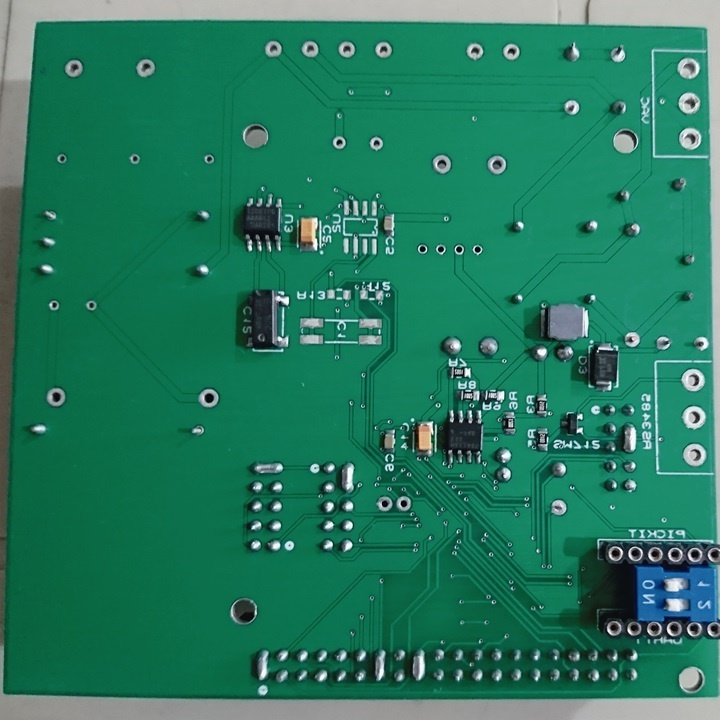F: (681, 438, 709, 469), (681, 402, 710, 431), (676, 123, 704, 153), (676, 90, 705, 118), (680, 366, 707, 395), (674, 55, 703, 81), (195, 387, 221, 411), (430, 152, 456, 176), (44, 386, 68, 409), (133, 57, 156, 80), (484, 152, 507, 175), (499, 40, 521, 64), (653, 333, 675, 355), (61, 57, 84, 78), (299, 37, 320, 60), (607, 43, 627, 66), (621, 329, 641, 352), (690, 334, 711, 355), (463, 40, 484, 61), (560, 97, 582, 117), (264, 38, 284, 60), (373, 38, 393, 60), (550, 498, 569, 519), (337, 39, 356, 59), (330, 132, 349, 151), (395, 494, 413, 514), (374, 495, 395, 512), (41, 206, 59, 223), (188, 423, 206, 439), (367, 136, 384, 151), (201, 152, 216, 167), (416, 240, 429, 256), (55, 152, 69, 166), (47, 297, 60, 312), (84, 299, 99, 312), (129, 152, 141, 166), (471, 242, 483, 256), (453, 243, 464, 257), (435, 244, 446, 257)
P: (248, 458, 291, 478), (253, 644, 273, 686), (371, 646, 388, 686), (410, 644, 426, 686), (620, 420, 639, 455), (339, 460, 358, 493)
